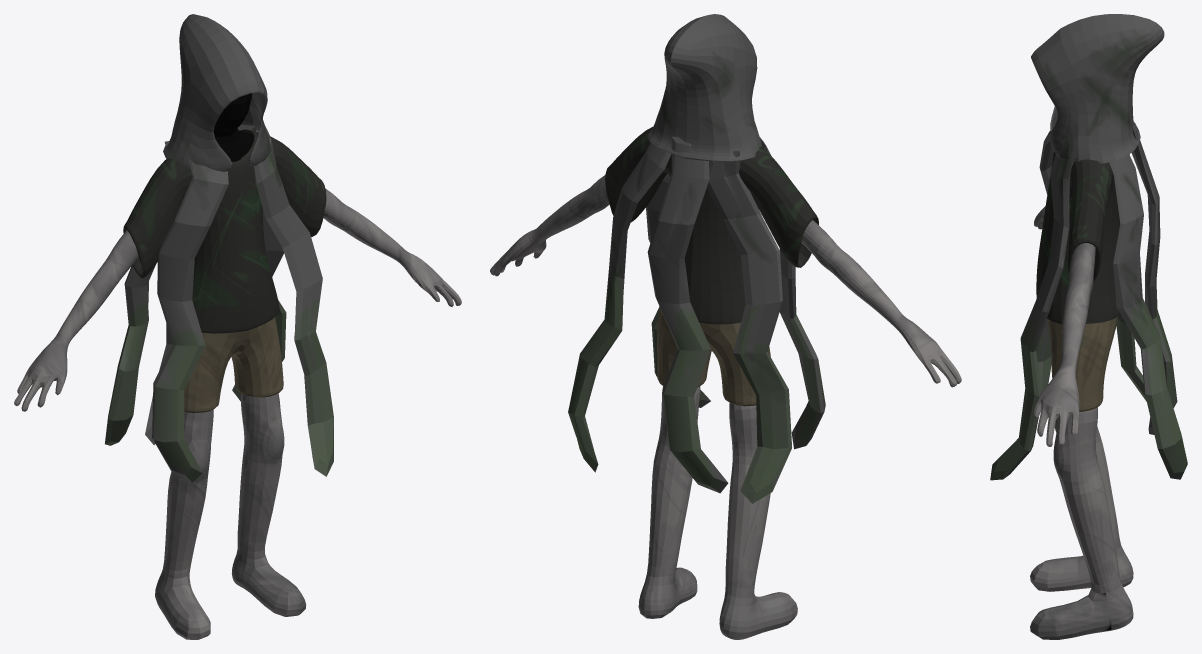
File: Wayward_Mesh (1).fbx
3 views of the same model, side by side, from view 1: azimuth 30°, elevation 25°; view 2: azimuth 150°, elevation 25°; view 3: azimuth 270°, elevation 25° (orthographic). The views are drawn at different scales.
Visible parts, largest first — view 1: Wayward2:Group45889, Wayward2:polySurface13, Wayward2:Group13853, Wayward2:ZBrush_defualt_group, Wayward2:Group10458; view 2: Wayward2:polySurface13, Wayward2:Group45889, Wayward2:ZBrush_defualt_group, Wayward2:Group13853, Wayward2:Group10458; view 3: Wayward2:polySurface13, Wayward2:Group45889, Wayward2:ZBrush_defualt_group, Wayward2:Group13853, Wayward2:Group10458.
Boxes of the visible parts, x1,y1,x2,y2 form: Wayward2:Group45889: (14,93,461,639); Wayward2:polySurface13: (105,124,333,482); Wayward2:Group13853: (123,129,326,333); Wayward2:ZBrush_defualt_group: (163,14,270,171); Wayward2:Group10458: (184,317,283,412); Wayward2:polySurface13: (568,136,825,503); Wayward2:Group45889: (490,175,961,639); Wayward2:ZBrush_defualt_group: (647,14,762,161); Wayward2:Group13853: (605,127,818,324); Wayward2:Group10458: (657,308,770,406); Wayward2:polySurface13: (990,125,1187,480); Wayward2:Group45889: (1030,206,1133,639); Wayward2:ZBrush_defualt_group: (1031,14,1164,163); Wayward2:Group13853: (1036,152,1120,324); Wayward2:Group10458: (1047,316,1118,411).
Size of the model in its own units: 4.19 by 5.25 by 1.57.
